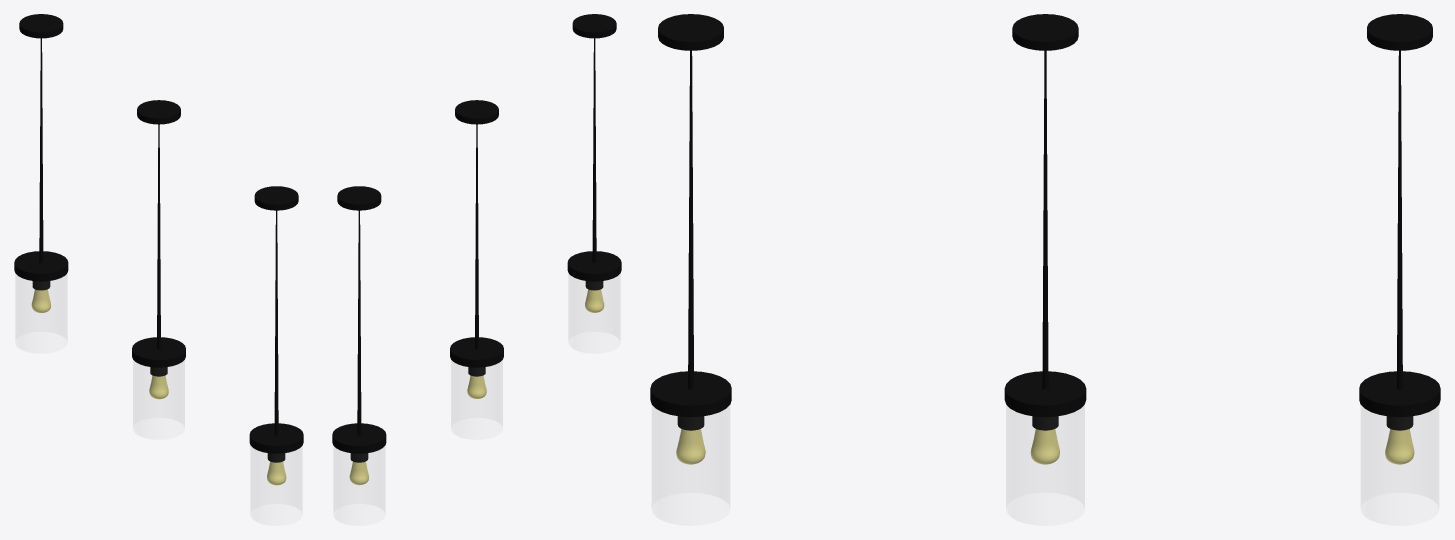
Rendered from Light_ZireMidnightBlack.glb.
3 views of the same model, side by side, from view 1: azimuth 30°, elevation 25°; view 2: azimuth 150°, elevation 25°; view 3: azimuth 270°, elevation 25° (orthographic). The views are drawn at different scales.
Parts seen in each view (by area): view 1: Zire Midnight Black; view 2: Zire Midnight Black; view 3: Zire Midnight Black.
Boxes of the visible parts, x1,y1,x2,y2 form: Zire Midnight Black: (14,14,303,511); Zire Midnight Black: (332,14,621,511); Zire Midnight Black: (650,14,1440,507).
Size of the model in its own units: 0.2338 by 1.52 by 2.27.
